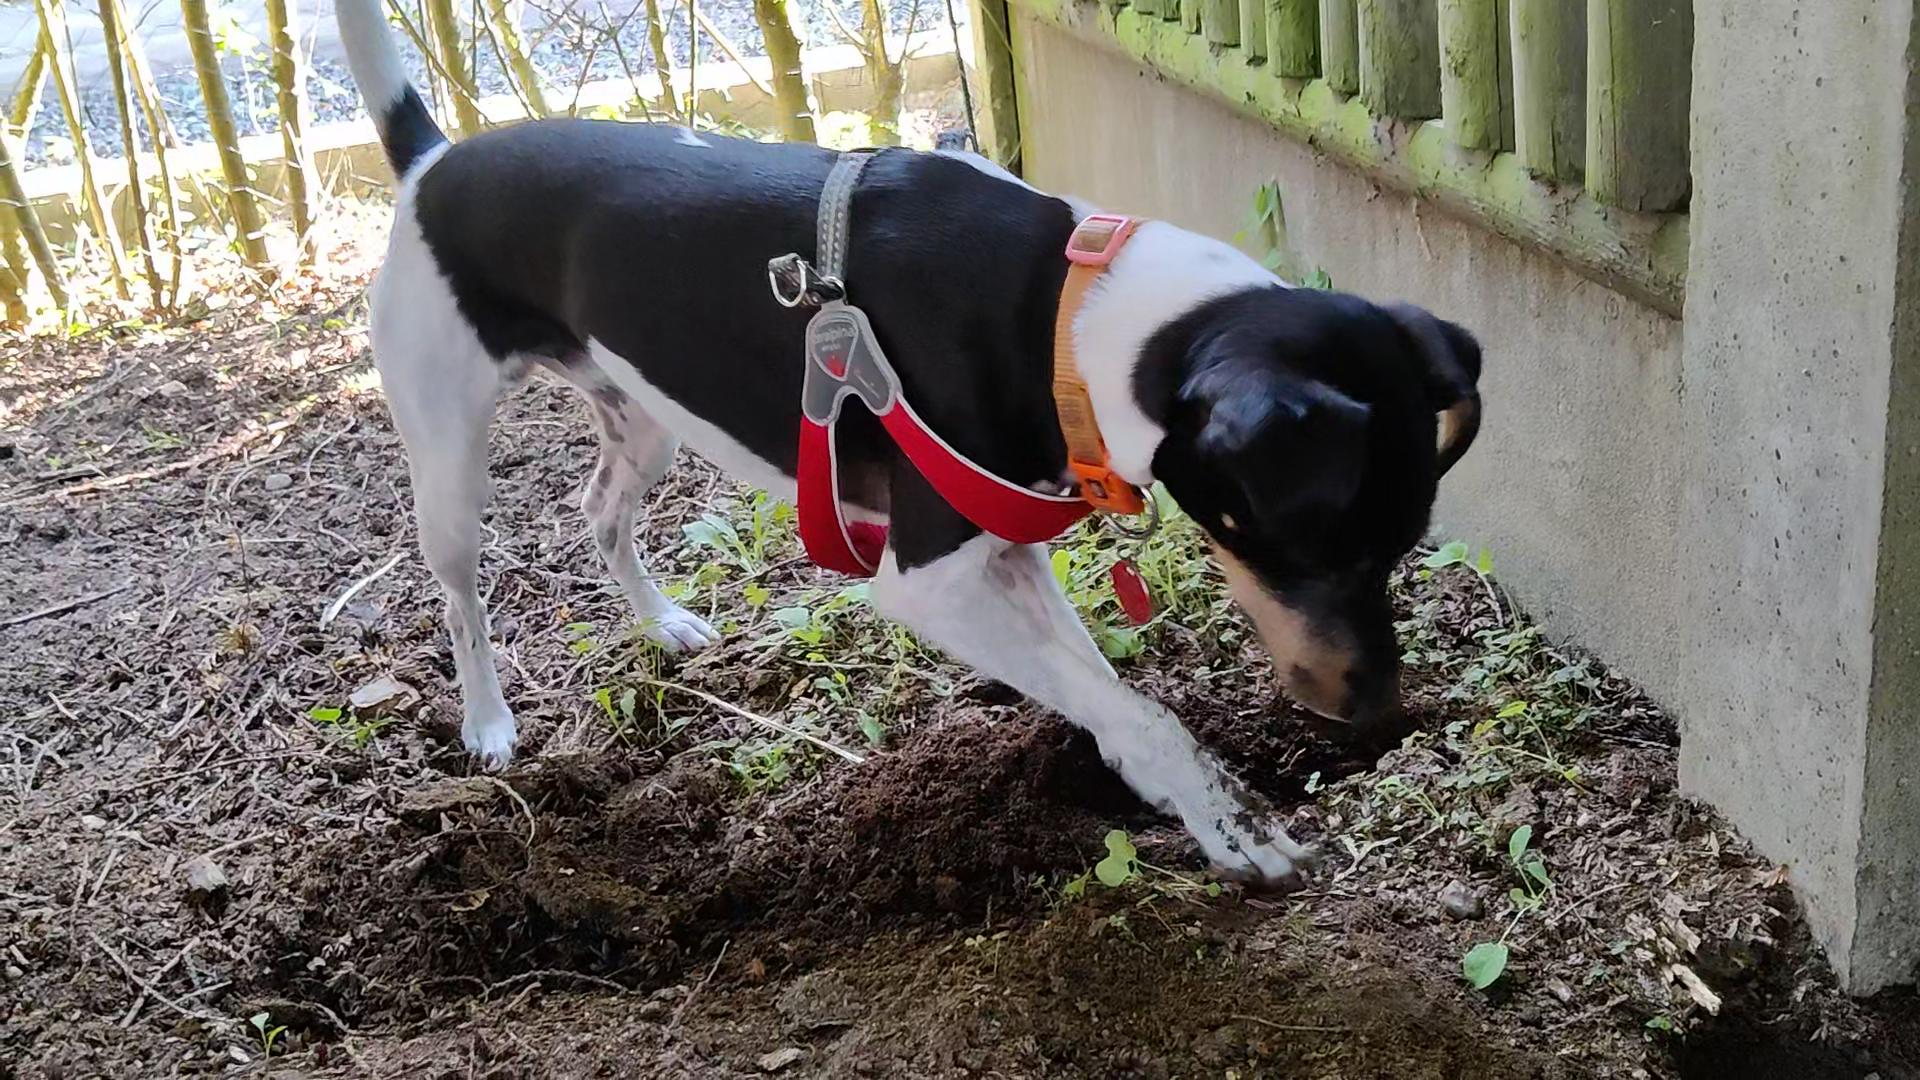Dog: (320, 0, 1538, 891)
